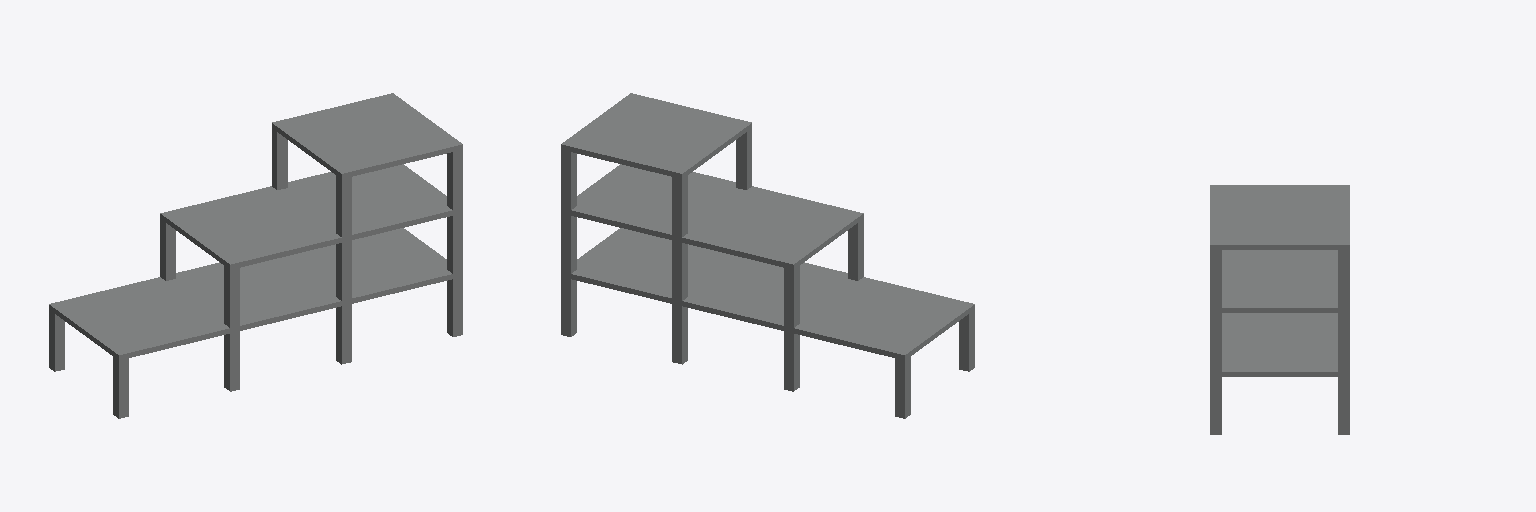
Rendered from skeleton.obj.
3 views of the same model, side by side, from view 1: azimuth 30°, elevation 25°; view 2: azimuth 150°, elevation 25°; view 3: azimuth 270°, elevation 25° (orthographic).
Parts seen in each view (by area): view 1: Mesh4 Group5 Group1 Model, Mesh8 Group9 Group1 Model, Mesh10 Group11 Group1 Model, Mesh11 Group12 Group1 Model, Mesh20 Group21 Group1 Model, Mesh9 Group10 Group1 Model, Mesh15 Group16 Group1 Model, Mesh21 Group22 Group1 Model, Mesh2 Group3 Group1 Model, Mesh6 Group7 Group1 Model, Mesh13 Group14 Group1 Model, Mesh17 Group18 Group1 Model (+3 smaller); view 2: Mesh4 Group5 Group1 Model, Mesh8 Group9 Group1 Model, Mesh10 Group11 Group1 Model, Mesh12 Group13 Group1 Model, Mesh19 Group20 Group1 Model, Mesh7 Group8 Group1 Model, Mesh16 Group17 Group1 Model, Mesh1 Group2 Group1 Model, Mesh3 Group4 Group1 Model, Mesh5 Group6 Group1 Model, Mesh14 Group15 Group1 Model, Mesh18 Group19 Group1 Model (+3 smaller); view 3: Mesh10 Group11 Group1 Model, Mesh4 Group5 Group1 Model, Mesh8 Group9 Group1 Model, Mesh2 Group3 Group1 Model, Mesh3 Group4 Group1 Model, Mesh5 Group6 Group1 Model, Mesh6 Group7 Group1 Model, Mesh17 Group18 Group1 Model, Mesh18 Group19 Group1 Model.
Boxes of the visible parts, box(x1,y1,x2,y2) form: Mesh4 Group5 Group1 Model: box(49, 228, 462, 360); Mesh8 Group9 Group1 Model: box(160, 164, 462, 269); Mesh10 Group11 Group1 Model: box(272, 93, 462, 178); Mesh11 Group12 Group1 Model: box(113, 357, 128, 418); Mesh20 Group21 Group1 Model: box(224, 266, 239, 327); Mesh9 Group10 Group1 Model: box(336, 175, 351, 236); Mesh15 Group16 Group1 Model: box(336, 304, 351, 364); Mesh21 Group22 Group1 Model: box(336, 240, 351, 300); Mesh2 Group3 Group1 Model: box(447, 213, 462, 273); Mesh6 Group7 Group1 Model: box(447, 150, 462, 209); Mesh13 Group14 Group1 Model: box(224, 331, 239, 391); Mesh17 Group18 Group1 Model: box(447, 277, 462, 336); Mesh4 Group5 Group1 Model: box(561, 228, 974, 360); Mesh8 Group9 Group1 Model: box(561, 164, 863, 269); Mesh10 Group11 Group1 Model: box(561, 93, 751, 178); Mesh12 Group13 Group1 Model: box(895, 357, 910, 418); Mesh19 Group20 Group1 Model: box(784, 266, 799, 327); Mesh7 Group8 Group1 Model: box(672, 175, 687, 236); Mesh16 Group17 Group1 Model: box(672, 304, 687, 364); Mesh1 Group2 Group1 Model: box(672, 240, 687, 300); Mesh3 Group4 Group1 Model: box(561, 213, 576, 273); Mesh5 Group6 Group1 Model: box(561, 150, 576, 209); Mesh14 Group15 Group1 Model: box(784, 331, 799, 391); Mesh18 Group19 Group1 Model: box(561, 277, 576, 336); Mesh10 Group11 Group1 Model: box(1210, 185, 1349, 249); Mesh4 Group5 Group1 Model: box(1210, 313, 1349, 376); Mesh8 Group9 Group1 Model: box(1210, 250, 1349, 312); Mesh2 Group3 Group1 Model: box(1210, 313, 1221, 371); Mesh3 Group4 Group1 Model: box(1338, 313, 1349, 371); Mesh5 Group6 Group1 Model: box(1338, 250, 1349, 307); Mesh6 Group7 Group1 Model: box(1210, 250, 1221, 307); Mesh17 Group18 Group1 Model: box(1210, 377, 1221, 434); Mesh18 Group19 Group1 Model: box(1338, 377, 1349, 434).
Bounding box in the file's own units: 850 × 450 × 300.